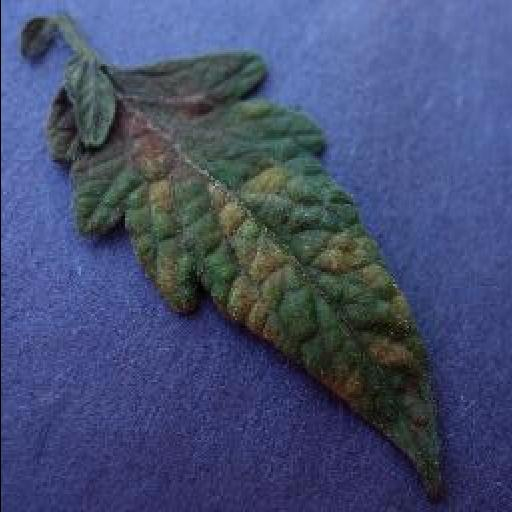disease_tomato: (46, 59, 448, 503)
